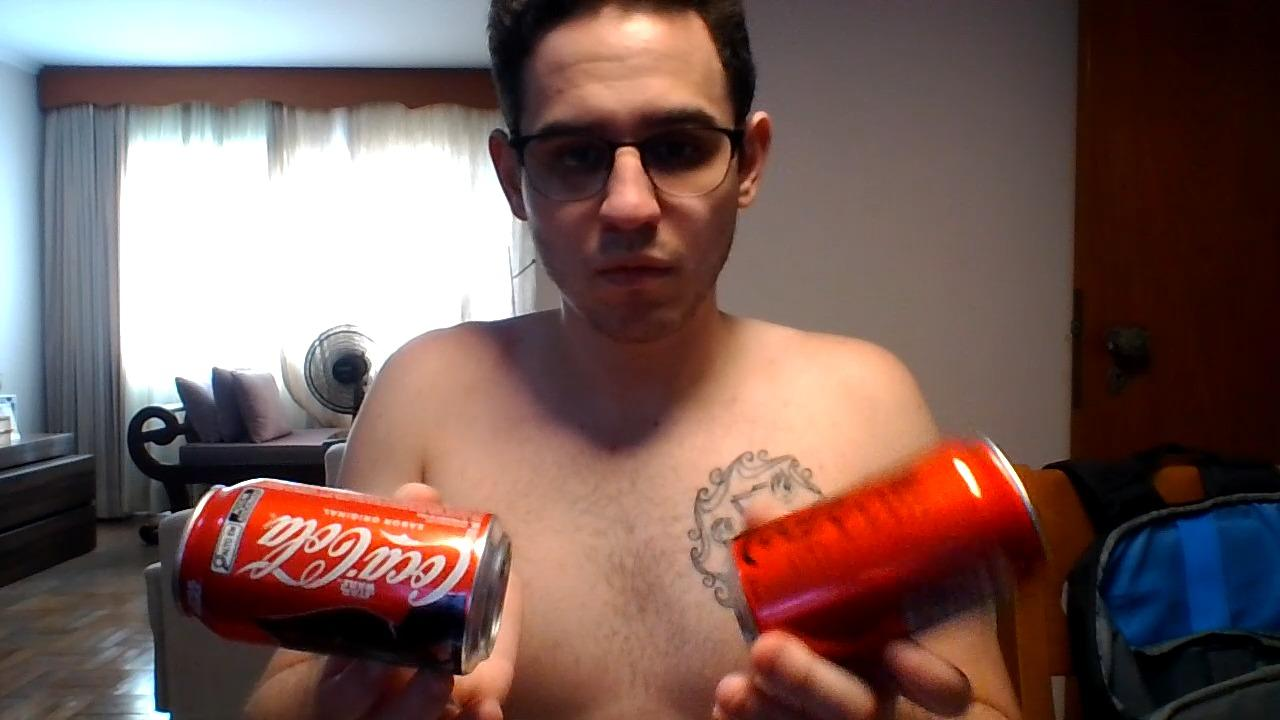coke: (170, 479, 519, 675), (734, 442, 1038, 650)
